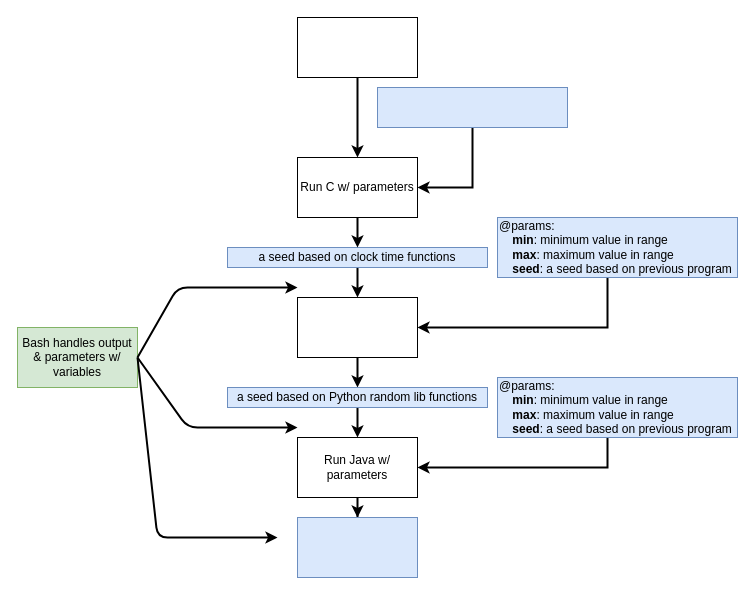
Image size: 755x595. Some labels were removed from this diagram. Each missing label, with the centre of its shape:
"@params: min : minimum value in range max : maximum value in range" belongs at [472,107].
"output random number!" belongs at [357,547].
"Run Bash w/ parameters" belongs at [357,47].
"Run Python w/ parameters" belongs at [357,327].
